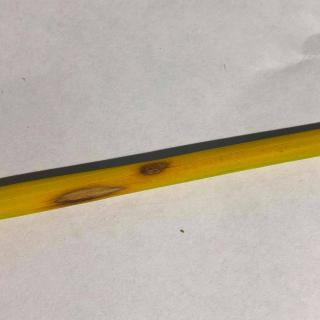Blast: (55, 184, 132, 207), (141, 158, 168, 181)
